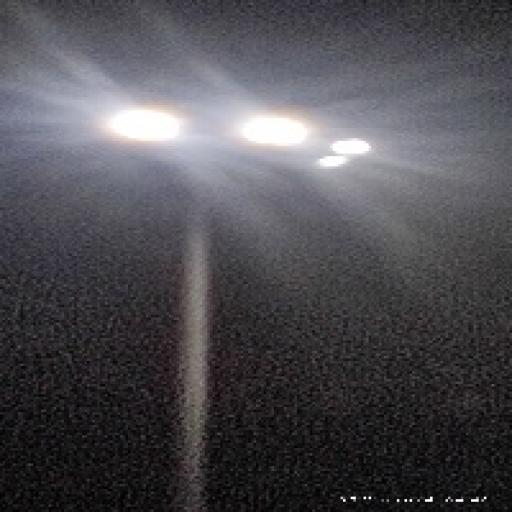Working: (224, 102, 321, 162), (94, 99, 196, 154), (311, 133, 377, 176)
